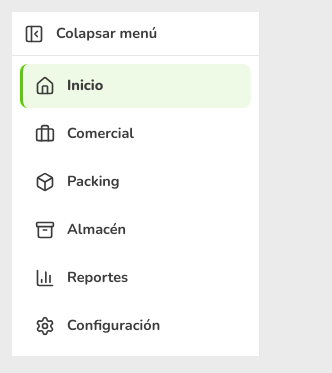
Sidebar › H2-E1 / H2-E2: colapsar oculta los nombres a solo iconos, y expandir los restaura
Click the button "Colapsar menú" at (136, 34), box [12,12,259,56]
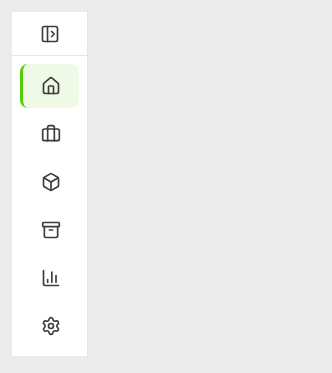
Expected: the button named "Expandir menú" is shown
Click the button named "Expandir menú" at (50, 34), box [12,12,87,56]
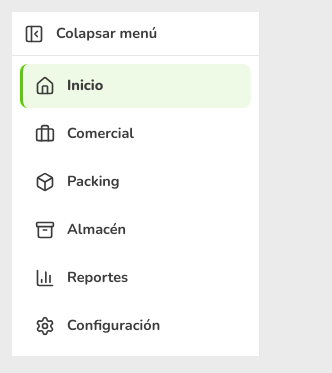
Expected: the button "Colapsar menú" is shown, [12,12,259,56]
